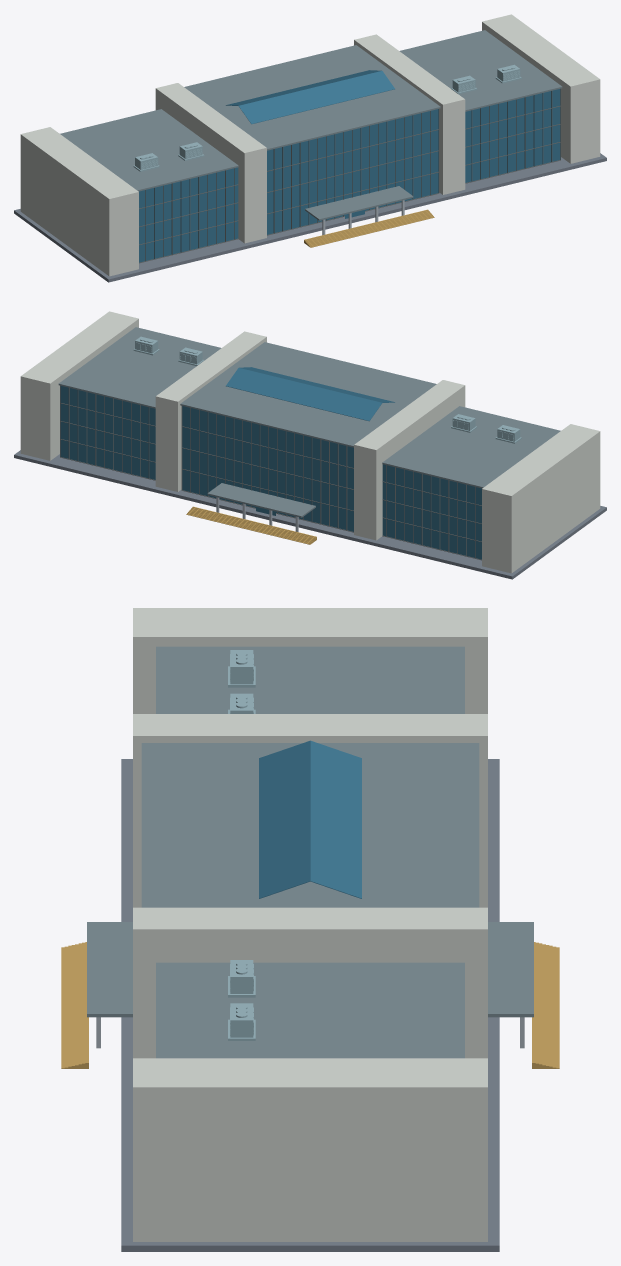
3 renders of one model, top to bottom at view 1: azimuth 30°, elevation 25°; view 2: azimuth 150°, elevation 25°; view 3: azimuth 270°, elevation 25°, orthographic. The views are drawn at different scales.
Parts seen in each view (by area): view 1: HQ; view 2: HQ; view 3: HQ.
Part boxes in pixels (x1=…): HQ: x1=14, y1=14, x2=606, y2=282; HQ: x1=14, y1=311, x2=606, y2=579; HQ: x1=61, y1=608, x2=559, y2=1251.
Size of the model in its own units: 201 by 38.12 by 87.
